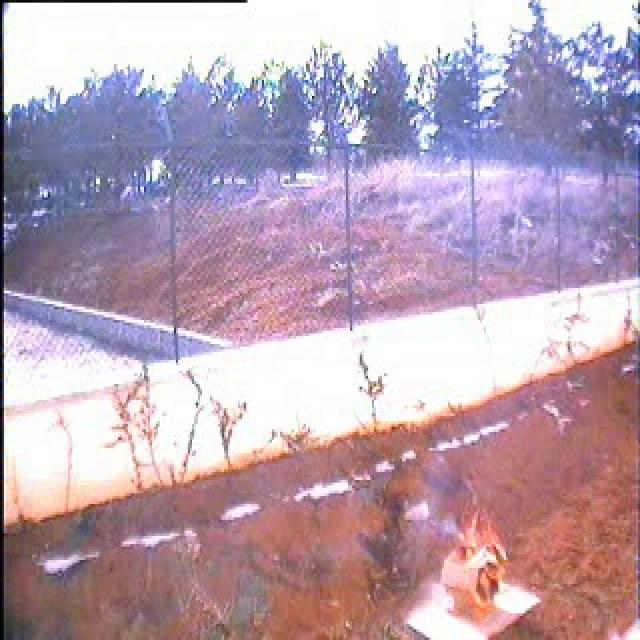Fire: (450, 491, 505, 592)
